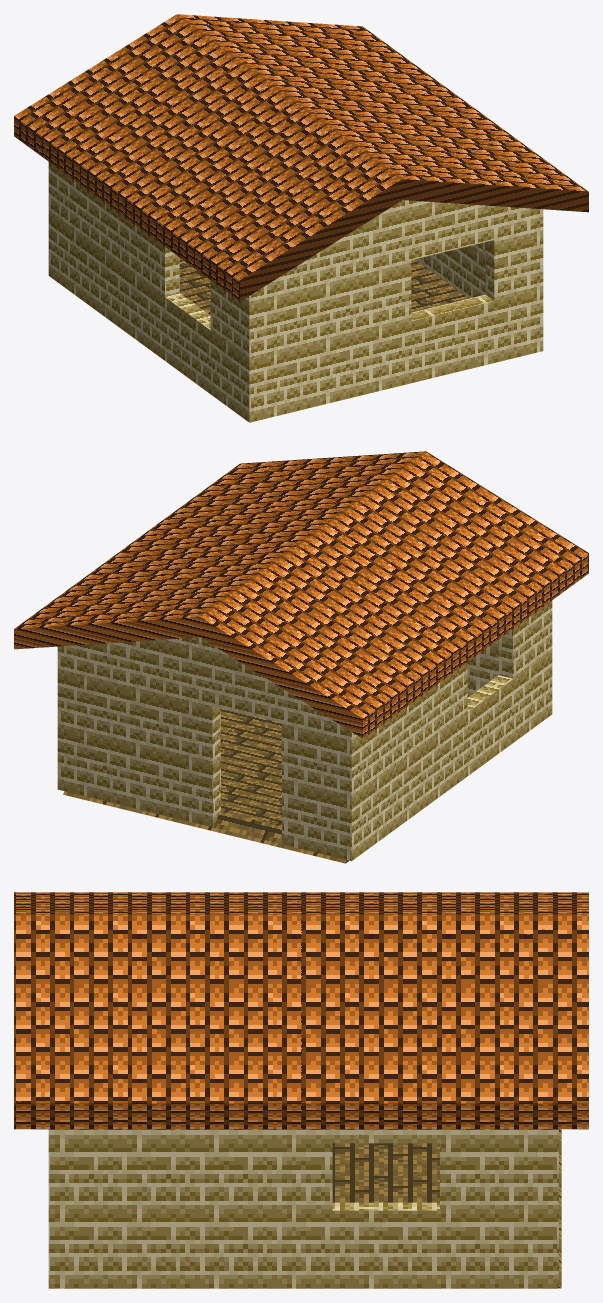
File: generic-houses-1.fbx
The picture shows the model from 3 angles, top to bottom: view 1: azimuth 30°, elevation 25°; view 2: azimuth 150°, elevation 25°; view 3: azimuth 270°, elevation 25°; orthographic projection. The views are drawn at different scales.
Visible parts, largest first — view 1: Roof, Walls, Floor; view 2: Roof, Walls, Floor; view 3: Roof, Walls, Floor.
Part boxes in pixels (x1=…): Roof: x1=14, y1=14, x2=588, y2=301; Walls: x1=48, y1=162, x2=543, y2=422; Floor: x1=179, y1=258, x2=468, y2=315; Roof: x1=14, y1=451, x2=588, y2=738; Walls: x1=57, y1=600, x2=552, y2=861; Floor: x1=63, y1=692, x2=472, y2=863; Roof: x1=14, y1=892, x2=588, y2=1129; Walls: x1=48, y1=1129, x2=558, y2=1288; Floor: x1=332, y1=1129, x2=561, y2=1288.
Size of the model in its own units: 6.62 by 4.02 by 7.44.
3 materials, 3 textured.
